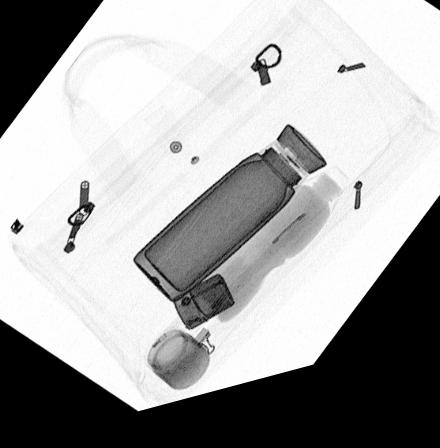Lighter: (171, 284, 234, 340)
